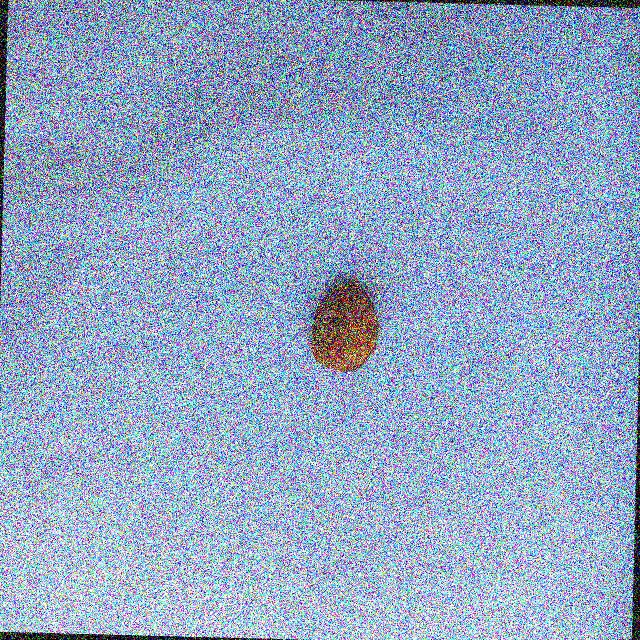grade3: (305, 276, 382, 377)
